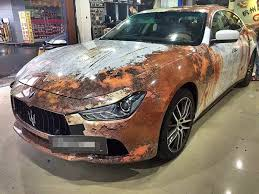rust: (118, 109, 160, 157), (36, 80, 88, 112), (126, 66, 172, 98), (176, 44, 216, 78)
